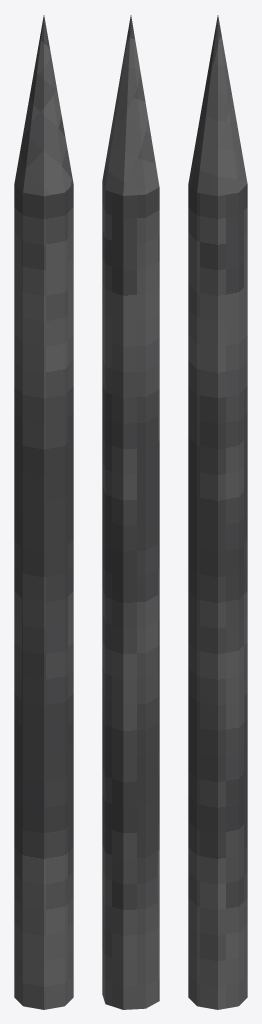
File: rod-pilon.obj
3 views of the same model, side by side, from view 1: azimuth 90°, elevation 25°; view 2: azimuth 210°, elevation 25°; view 3: azimuth 270°, elevation 25° (orthographic).
Visible parts, largest first — view 1: pilon_Cylinder.001; view 2: pilon_Cylinder.001; view 3: pilon_Cylinder.001.
Part boxes in pixels (x1,y1,x2,y2): pilon_Cylinder.001: (14,15,73,1009); pilon_Cylinder.001: (102,15,159,1009); pilon_Cylinder.001: (188,15,247,1009).
Size of the model in its own units: 0.3 by 5.5 by 0.3.
